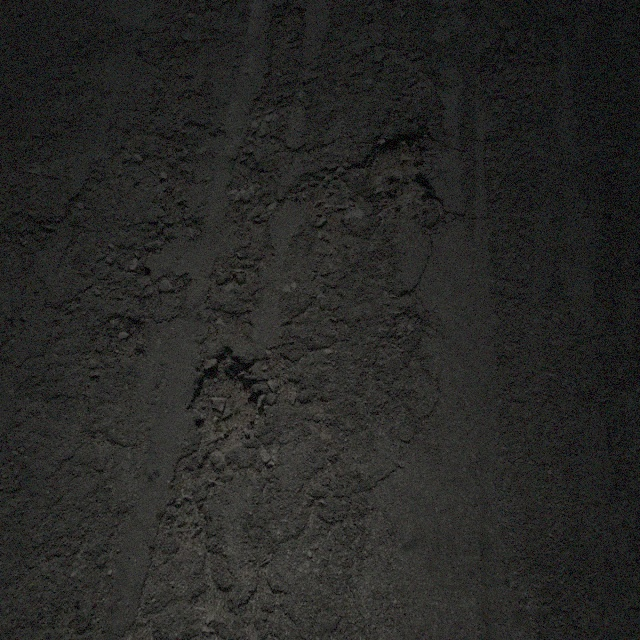pothole: (186, 343, 266, 450), (361, 124, 442, 222)
